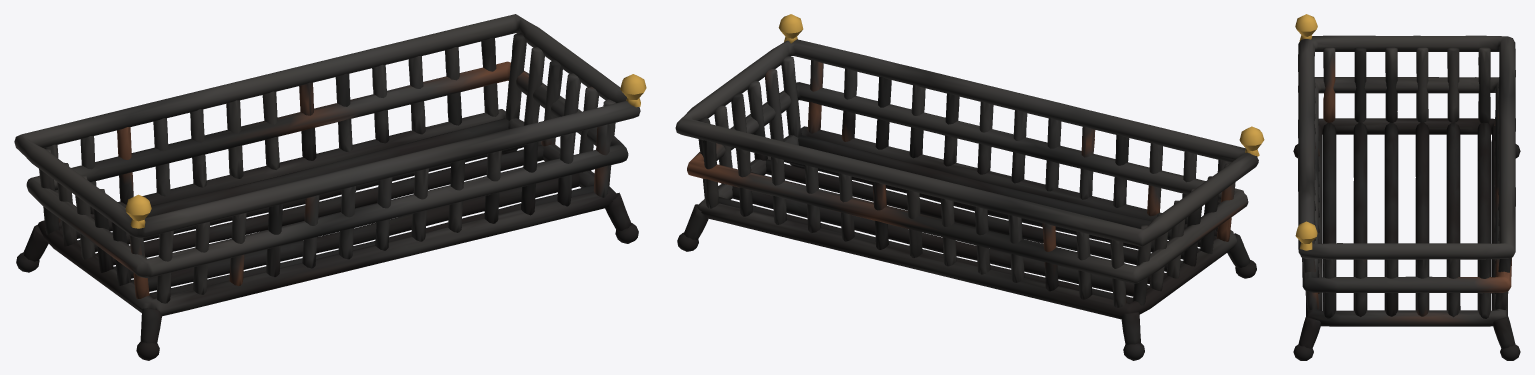
File: ember_grate.glb
3 views of the same model, side by side, from view 1: azimuth 30°, elevation 25°; view 2: azimuth 150°, elevation 25°; view 3: azimuth 270°, elevation 25° (orthographic). The views are drawn at different scales.
Visible parts, largest first — view 1: ember_grate; view 2: ember_grate; view 3: ember_grate.
Boxes of the visible parts, x1=… form: ember_grate: x1=14, y1=14, x2=646, y2=360; ember_grate: x1=675, y1=14, x2=1264, y2=360; ember_grate: x1=1293, y1=14, x2=1520, y2=360.
Bounding box in the file's own units: 49.69 × 15.19 × 22.
